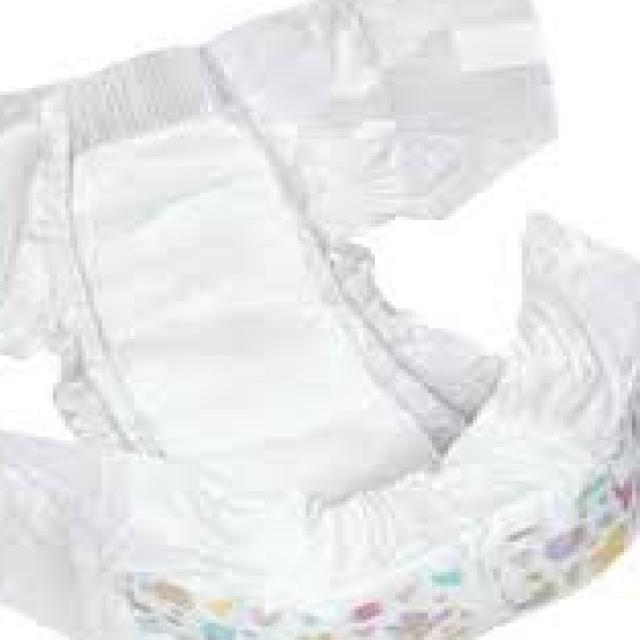organic: (8, 31, 610, 614)
